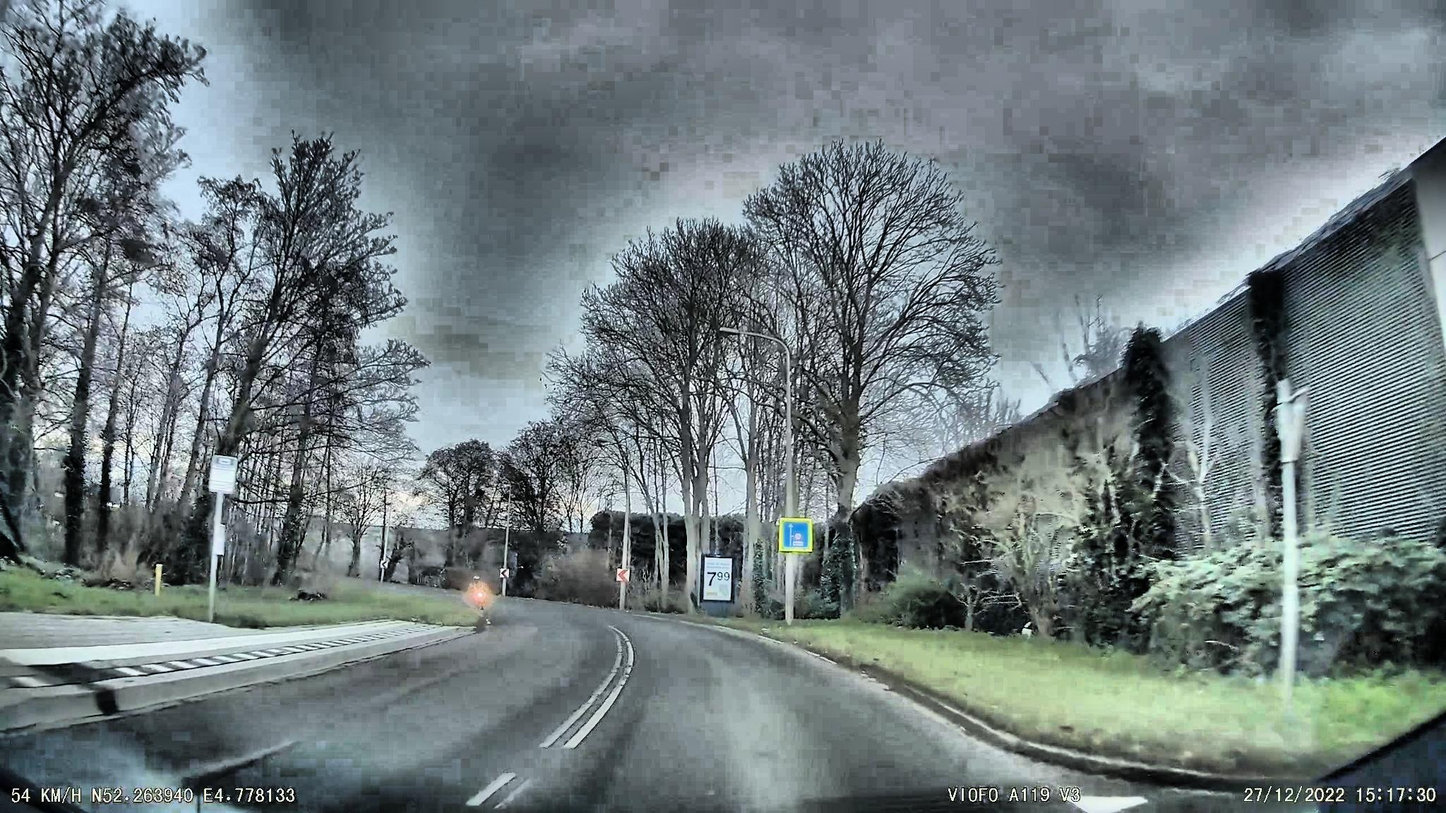Roads: (0, 598, 1147, 813)
